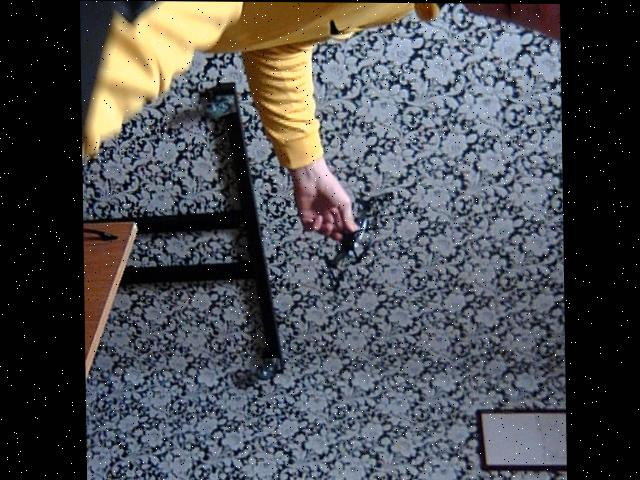drone: (320, 175, 396, 297)
